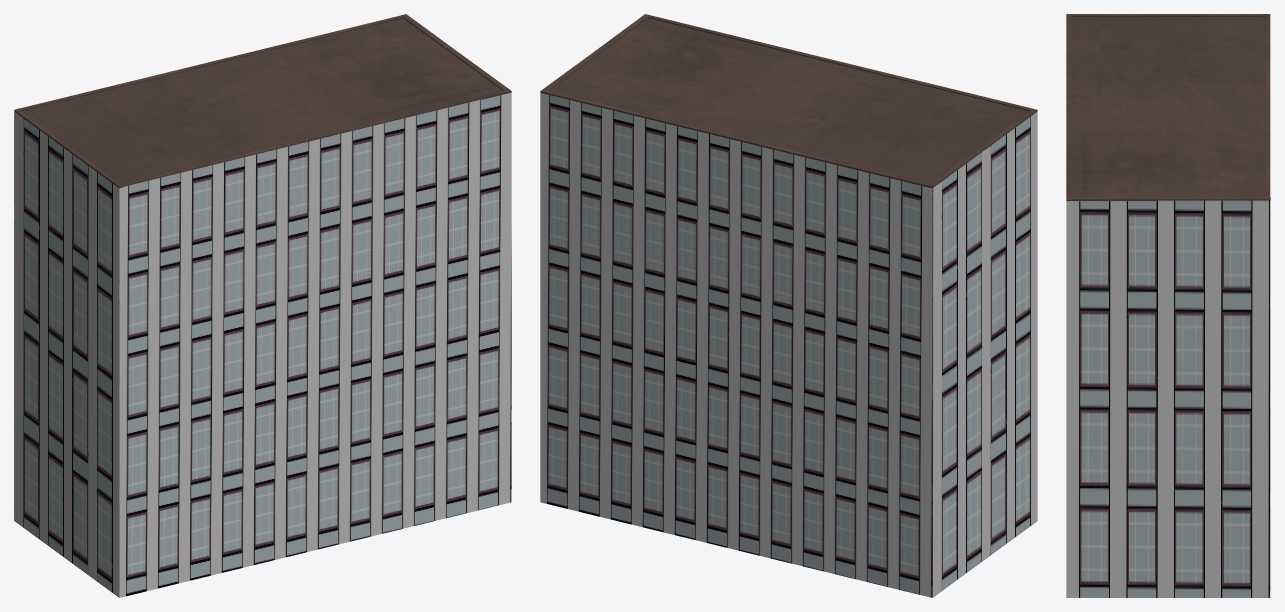
The model's file is build6.fbx.
The picture shows the model from 3 angles, left to right: view 1: azimuth 30°, elevation 25°; view 2: azimuth 150°, elevation 25°; view 3: azimuth 270°, elevation 25°; orthographic projection. The views are drawn at different scales.
Parts seen in each view (by area): view 1: Construction_Building; view 2: Construction_Building; view 3: Construction_Building.
Part boxes in pixels (bbox=[...]): Construction_Building: bbox=[14, 14, 511, 597]; Construction_Building: bbox=[540, 14, 1037, 597]; Construction_Building: bbox=[1066, 14, 1270, 597].
Size of the model in its own units: 1209 by 1211 by 562.
1 material, 1 textured.
